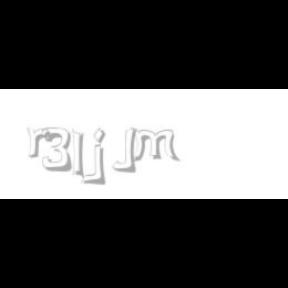3: (42, 128, 74, 172)
I: (73, 128, 86, 180)
J: (112, 128, 136, 172)
j: (90, 128, 119, 186)
m: (129, 128, 181, 162)
r: (26, 128, 54, 158)
